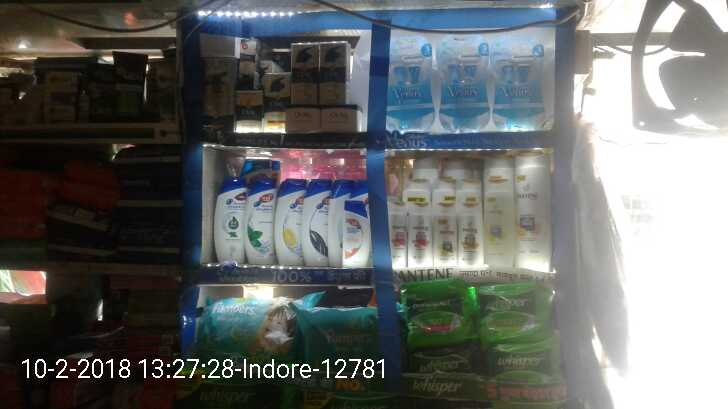venus: (491, 31, 544, 127), (440, 36, 491, 127), (388, 36, 433, 130)
